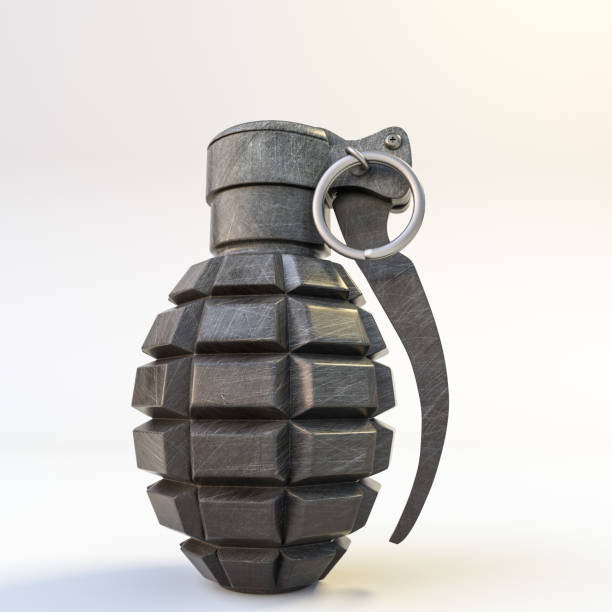e1: (132, 117, 453, 598)
